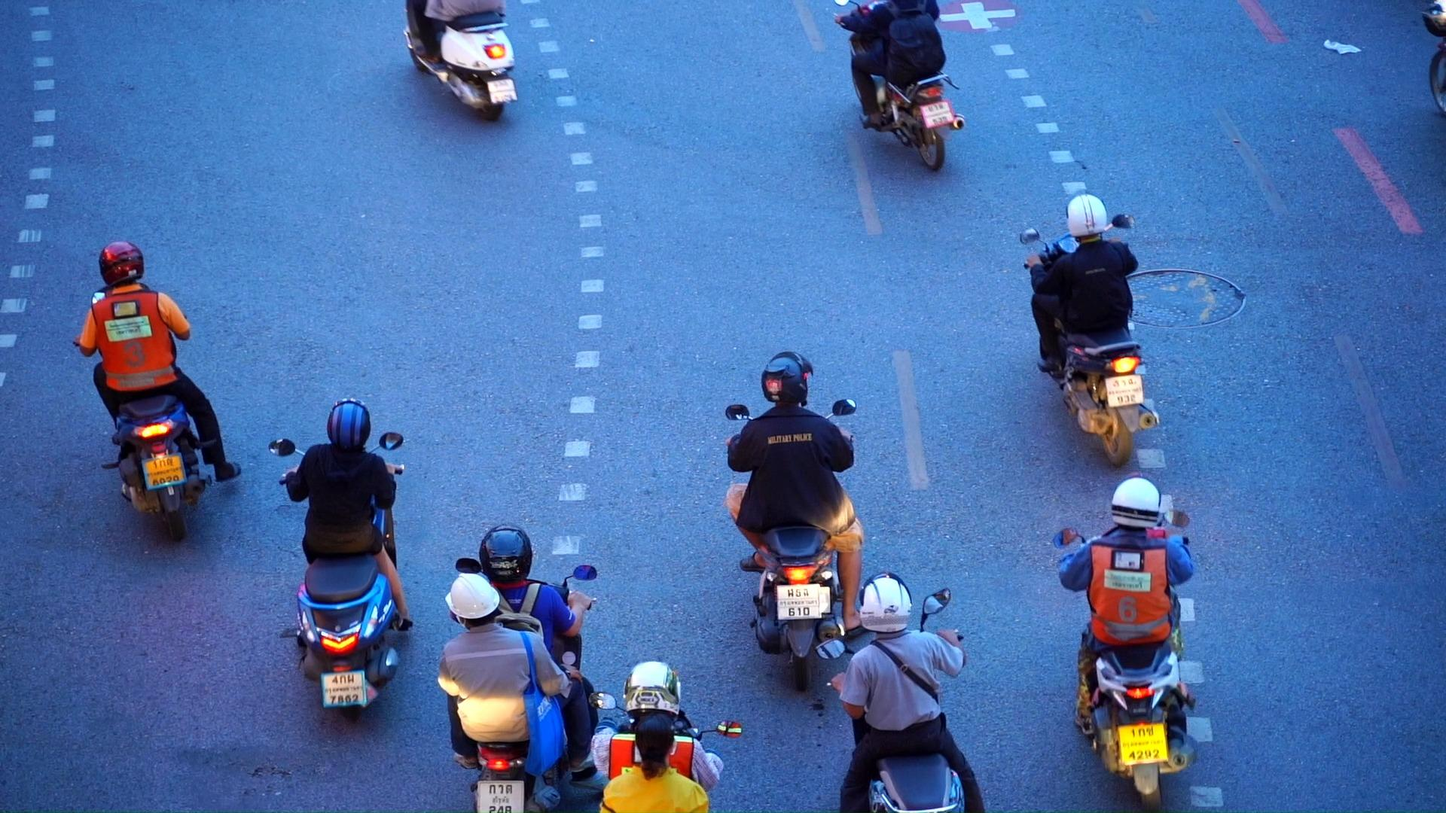driver: (73, 240, 242, 542), (438, 524, 610, 813), (725, 351, 870, 692), (1054, 471, 1195, 813), (267, 396, 414, 721), (814, 572, 984, 813), (1020, 190, 1159, 469), (589, 661, 742, 813), (834, 0, 966, 171), (403, 0, 518, 121)
helmet: (622, 661, 681, 720), (859, 571, 912, 634), (479, 524, 533, 584), (445, 573, 501, 628), (1111, 470, 1162, 529), (762, 350, 814, 407), (327, 396, 371, 452), (1065, 189, 1108, 243), (99, 240, 144, 287)
no-helmet: (636, 712, 678, 780)
